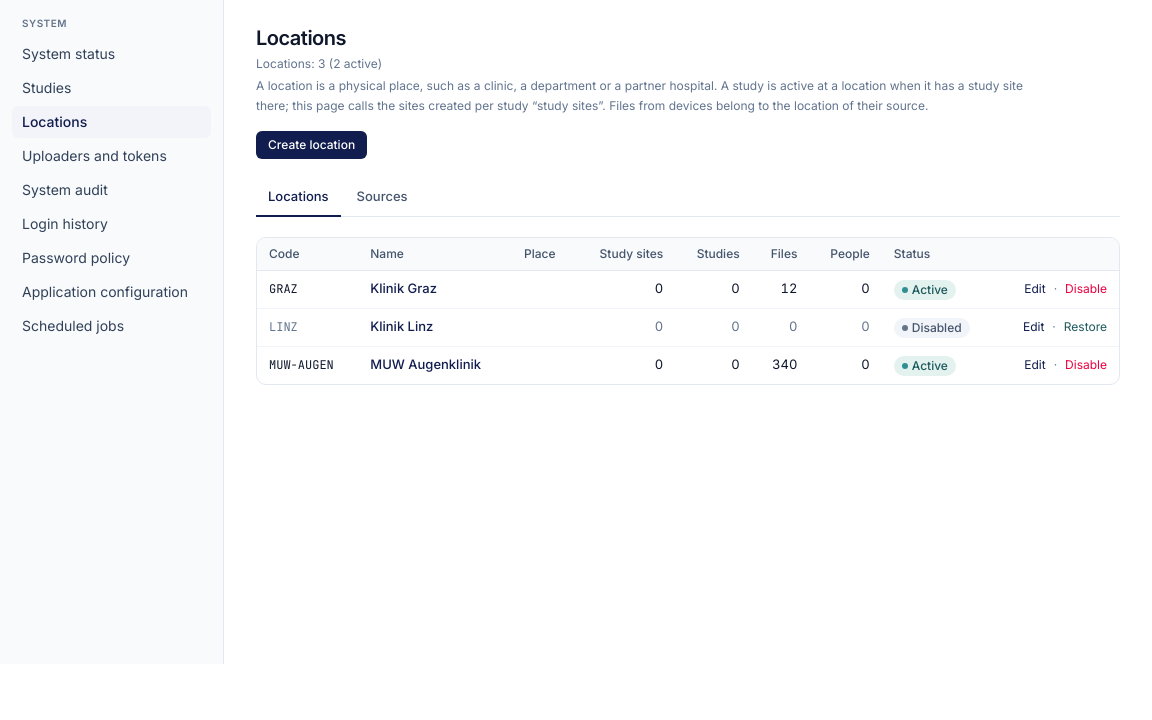
Scenario: System → Standorte → Quellen › the tabs › shows no number when the sources cannot be read, and says why on the tab
Click the tab "Sources": (382, 198) [345,179,420,216]
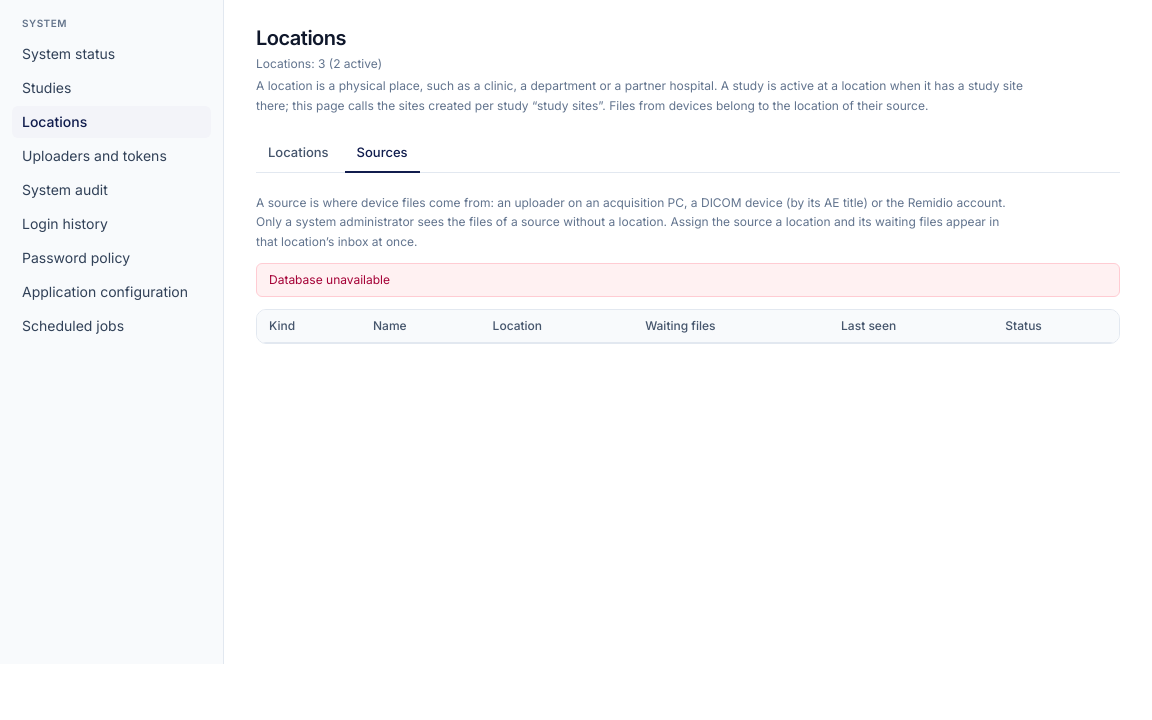
Result: the message "Database unavailable" is shown at [256,263,1120,297]
